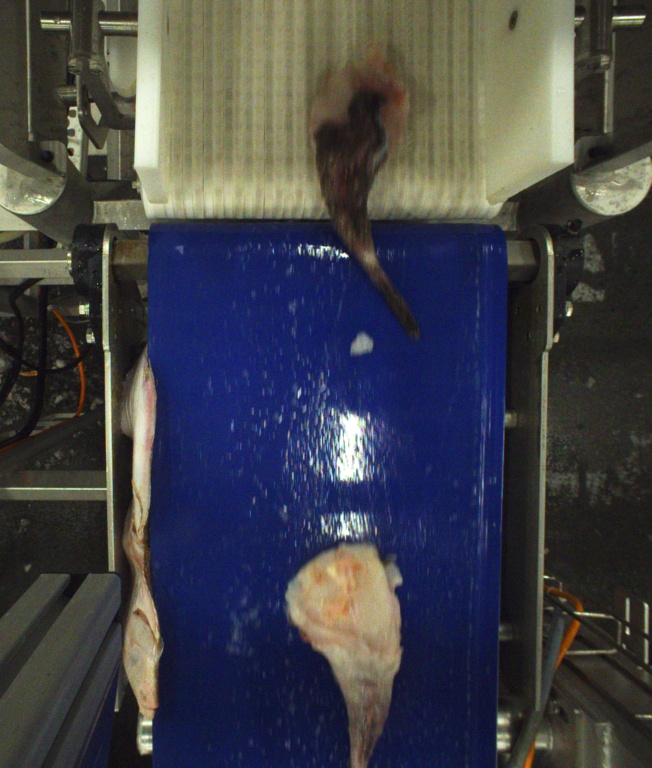ANF: (282, 540, 402, 768)
